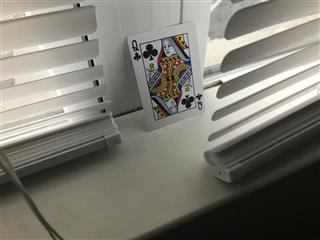QueenOfClubs: (126, 21, 206, 130)
